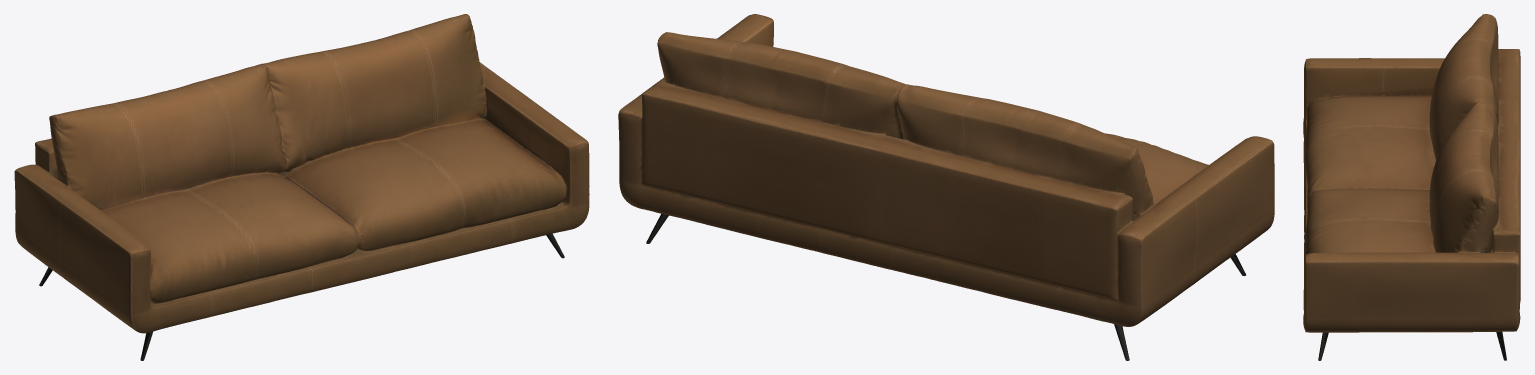
Rendered from couch.glb.
3 renders of one model, left to right at view 1: azimuth 30°, elevation 25°; view 2: azimuth 150°, elevation 25°; view 3: azimuth 270°, elevation 25°, orthographic. The views are drawn at different scales.
Bounding box in the file's own units: 1.89 × 0.7009 × 0.8416.
Materials: 1 (1 with a texture image).
